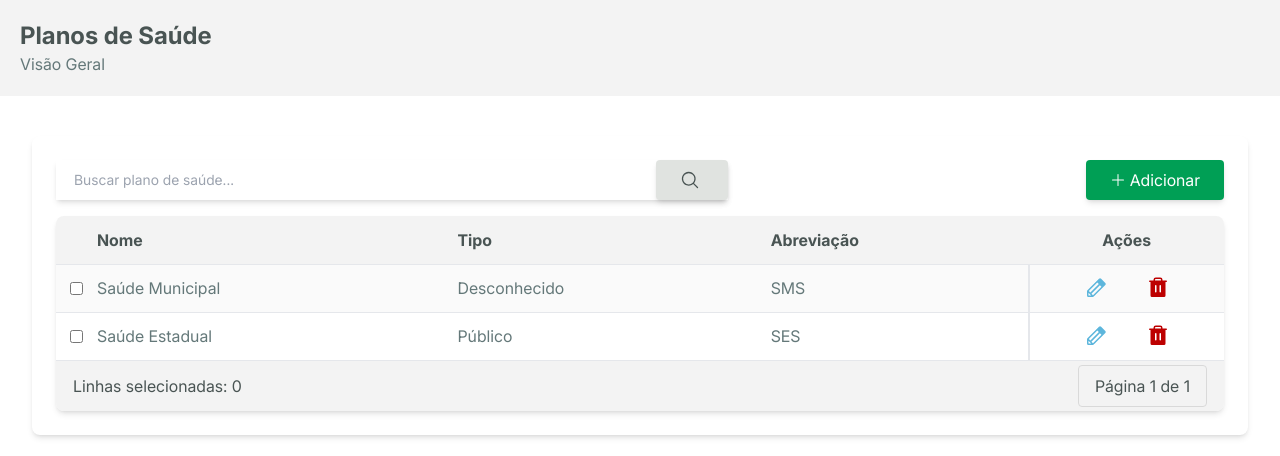
Scenario: páginas CRUD assistenciais › filters listed health plans by name
Expected: the text "Saúde Municipal" is shown, left=96, top=264, right=456, bottom=312
Type "Municipal" into the field with placeholder "Buscar plano de saúde..." at (356, 180), box left=56, top=160, right=656, bottom=200
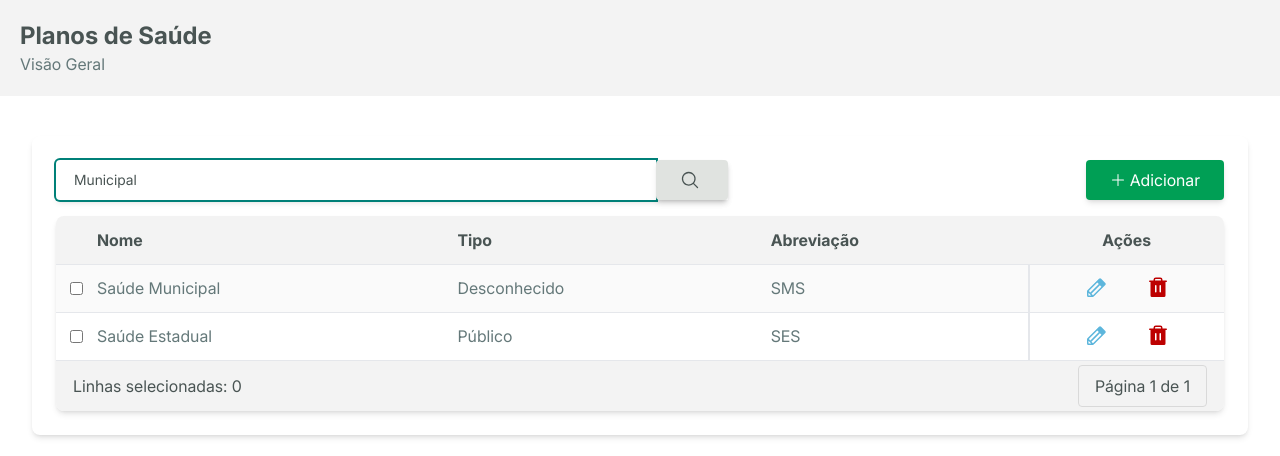
Click the button named "Buscar" at (692, 180), box left=656, top=160, right=728, bottom=200
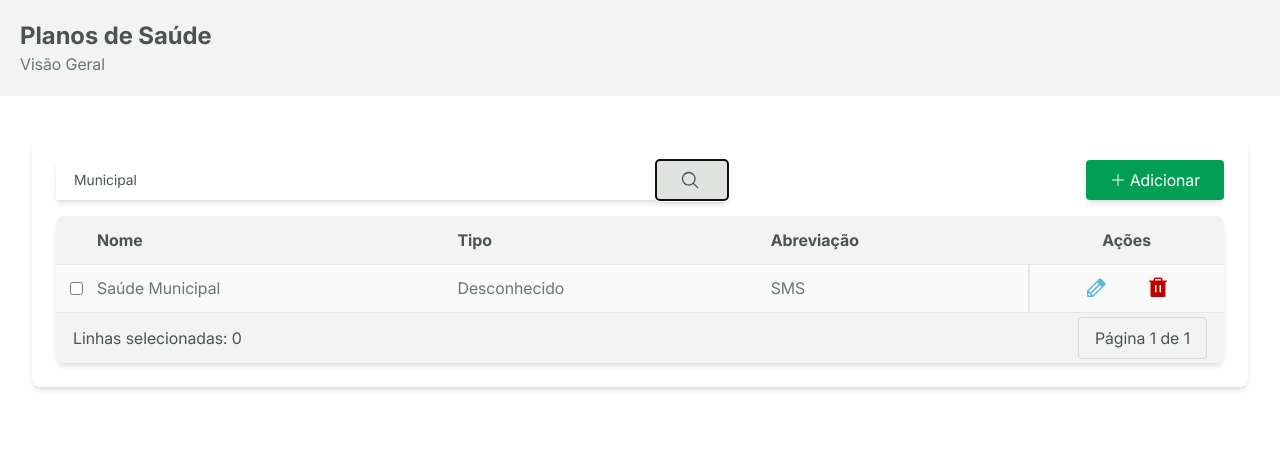
Expected: the text "Saúde Municipal" is shown, left=96, top=264, right=456, bottom=312
Now the text "Saúde Estadual" is gone
